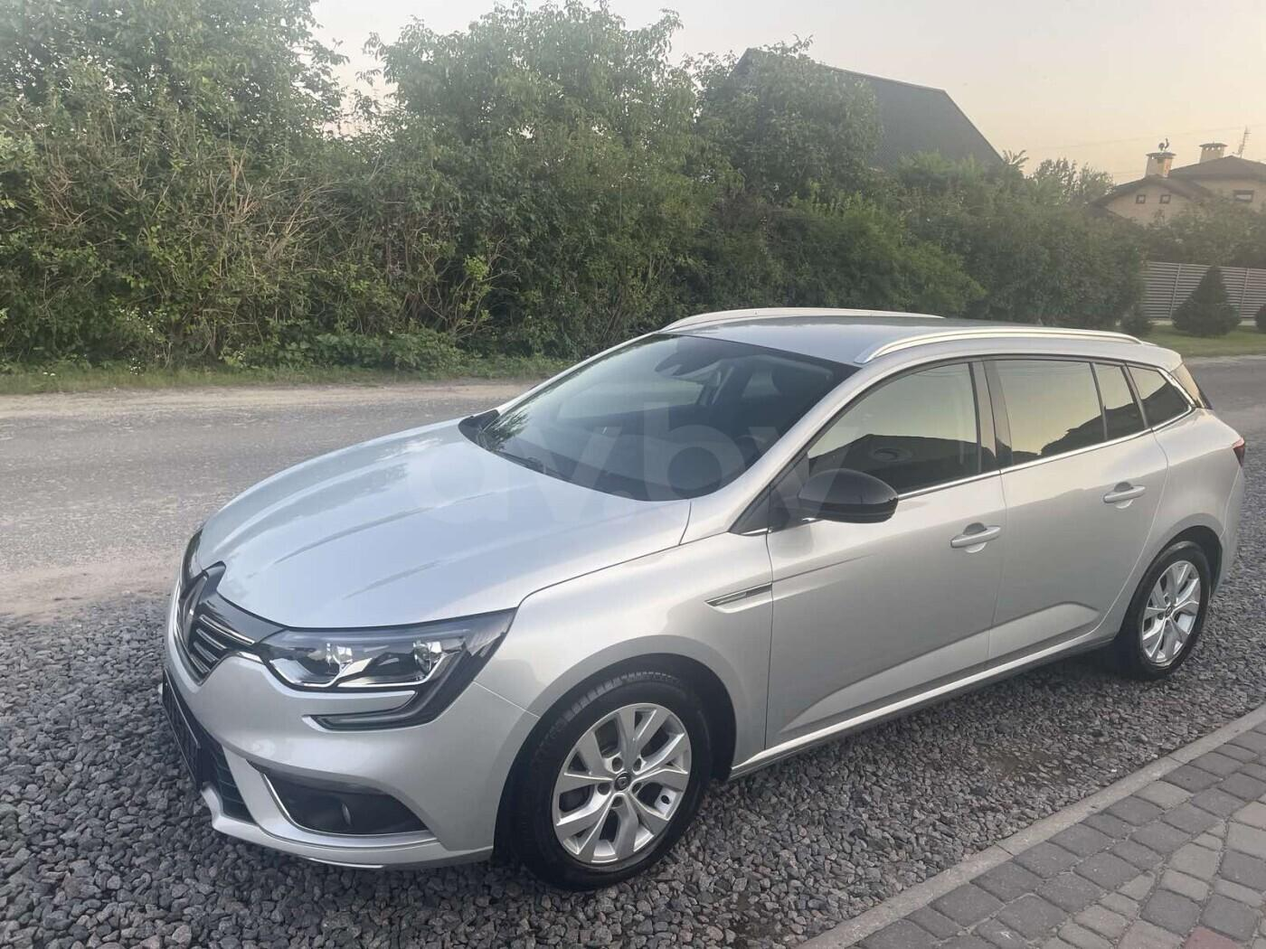Megane_2016-2020: (154, 298, 1244, 901)
